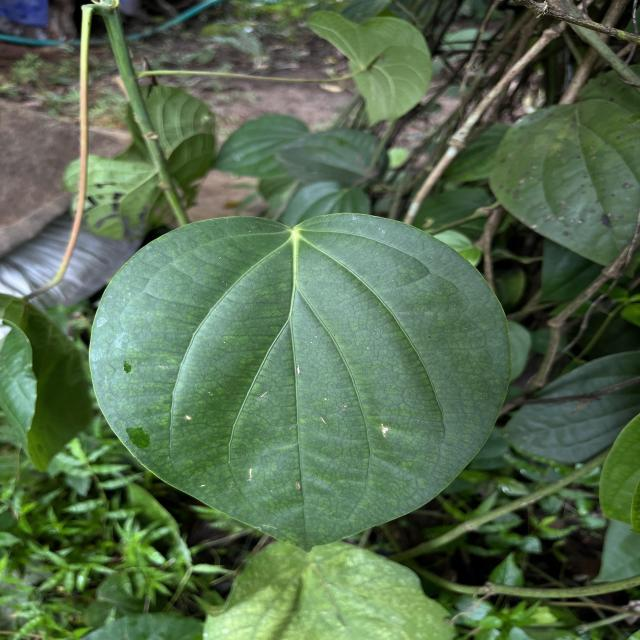Piper nigrum: (84, 211, 514, 555)
